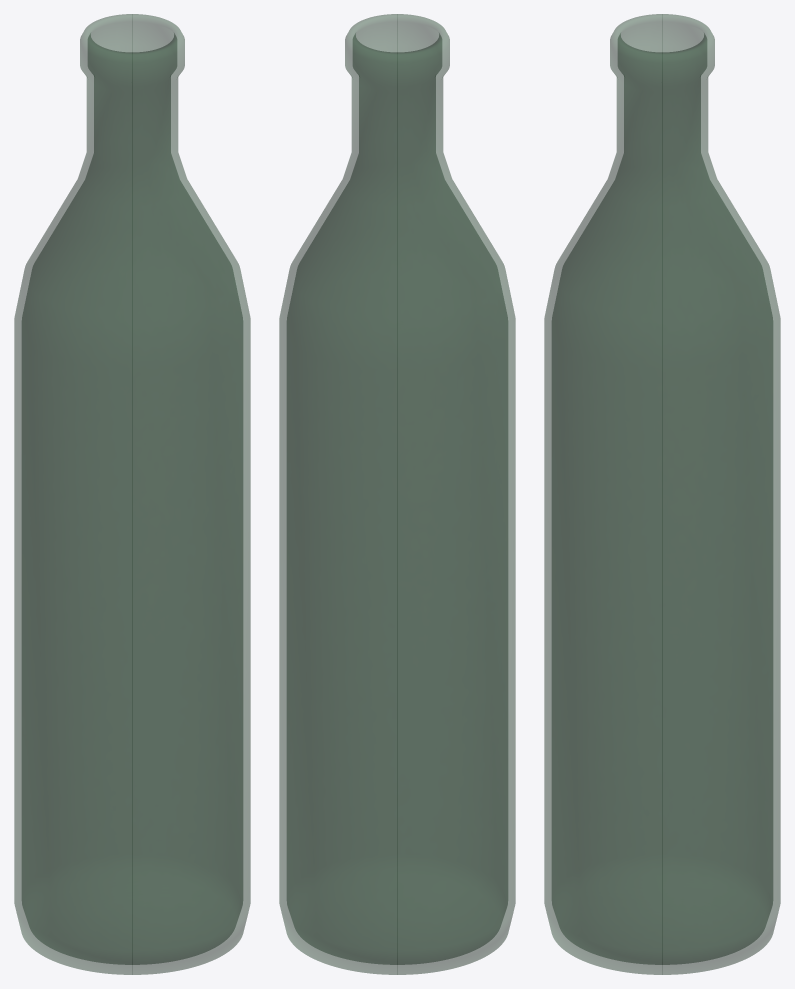
The model's file is intact.glb.
The picture shows the model from 3 angles, left to right: view 1: azimuth 30°, elevation 25°; view 2: azimuth 150°, elevation 25°; view 3: azimuth 270°, elevation 25°; orthographic projection.
Visible parts, largest first — view 1: wine-bottle-component-000-green; view 2: wine-bottle-component-000-green; view 3: wine-bottle-component-000-green.
Boxes of the visible parts, <box> form: wine-bottle-component-000-green: <box>14,14,250,974</box>; wine-bottle-component-000-green: <box>279,14,515,974</box>; wine-bottle-component-000-green: <box>544,14,780,974</box>.
Size of the model in its own units: 0.072 by 0.3 by 0.072.
Materials: 1 (1 with a texture image).
